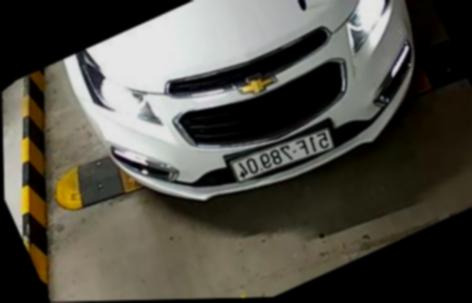License_Plate: (221, 120, 341, 185)
